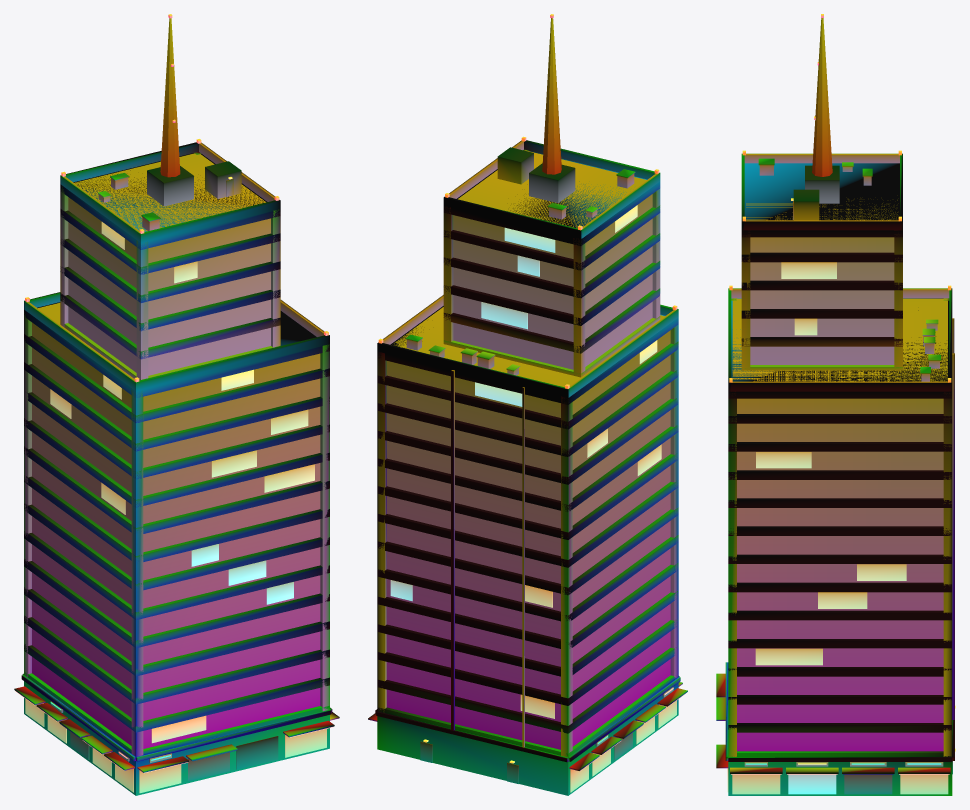
The model's file is Tower_Mast_V4.fbx.
3 views of the same model, side by side, from view 1: azimuth 30°, elevation 25°; view 2: azimuth 150°, elevation 25°; view 3: azimuth 270°, elevation 25° (orthographic).
Visible parts, largest first — view 1: Tower_Mast_V4_LOD0; view 2: Tower_Mast_V4_LOD0; view 3: Tower_Mast_V4_LOD0.
Part boxes in pixels (box(x1,y1,x2,y2)): Tower_Mast_V4_LOD0: box(14, 14, 339, 795); Tower_Mast_V4_LOD0: box(368, 14, 687, 795); Tower_Mast_V4_LOD0: box(716, 14, 955, 795).
Size of what is drawn, in the model's own units: 28.8 by 93.06 by 27.8.
